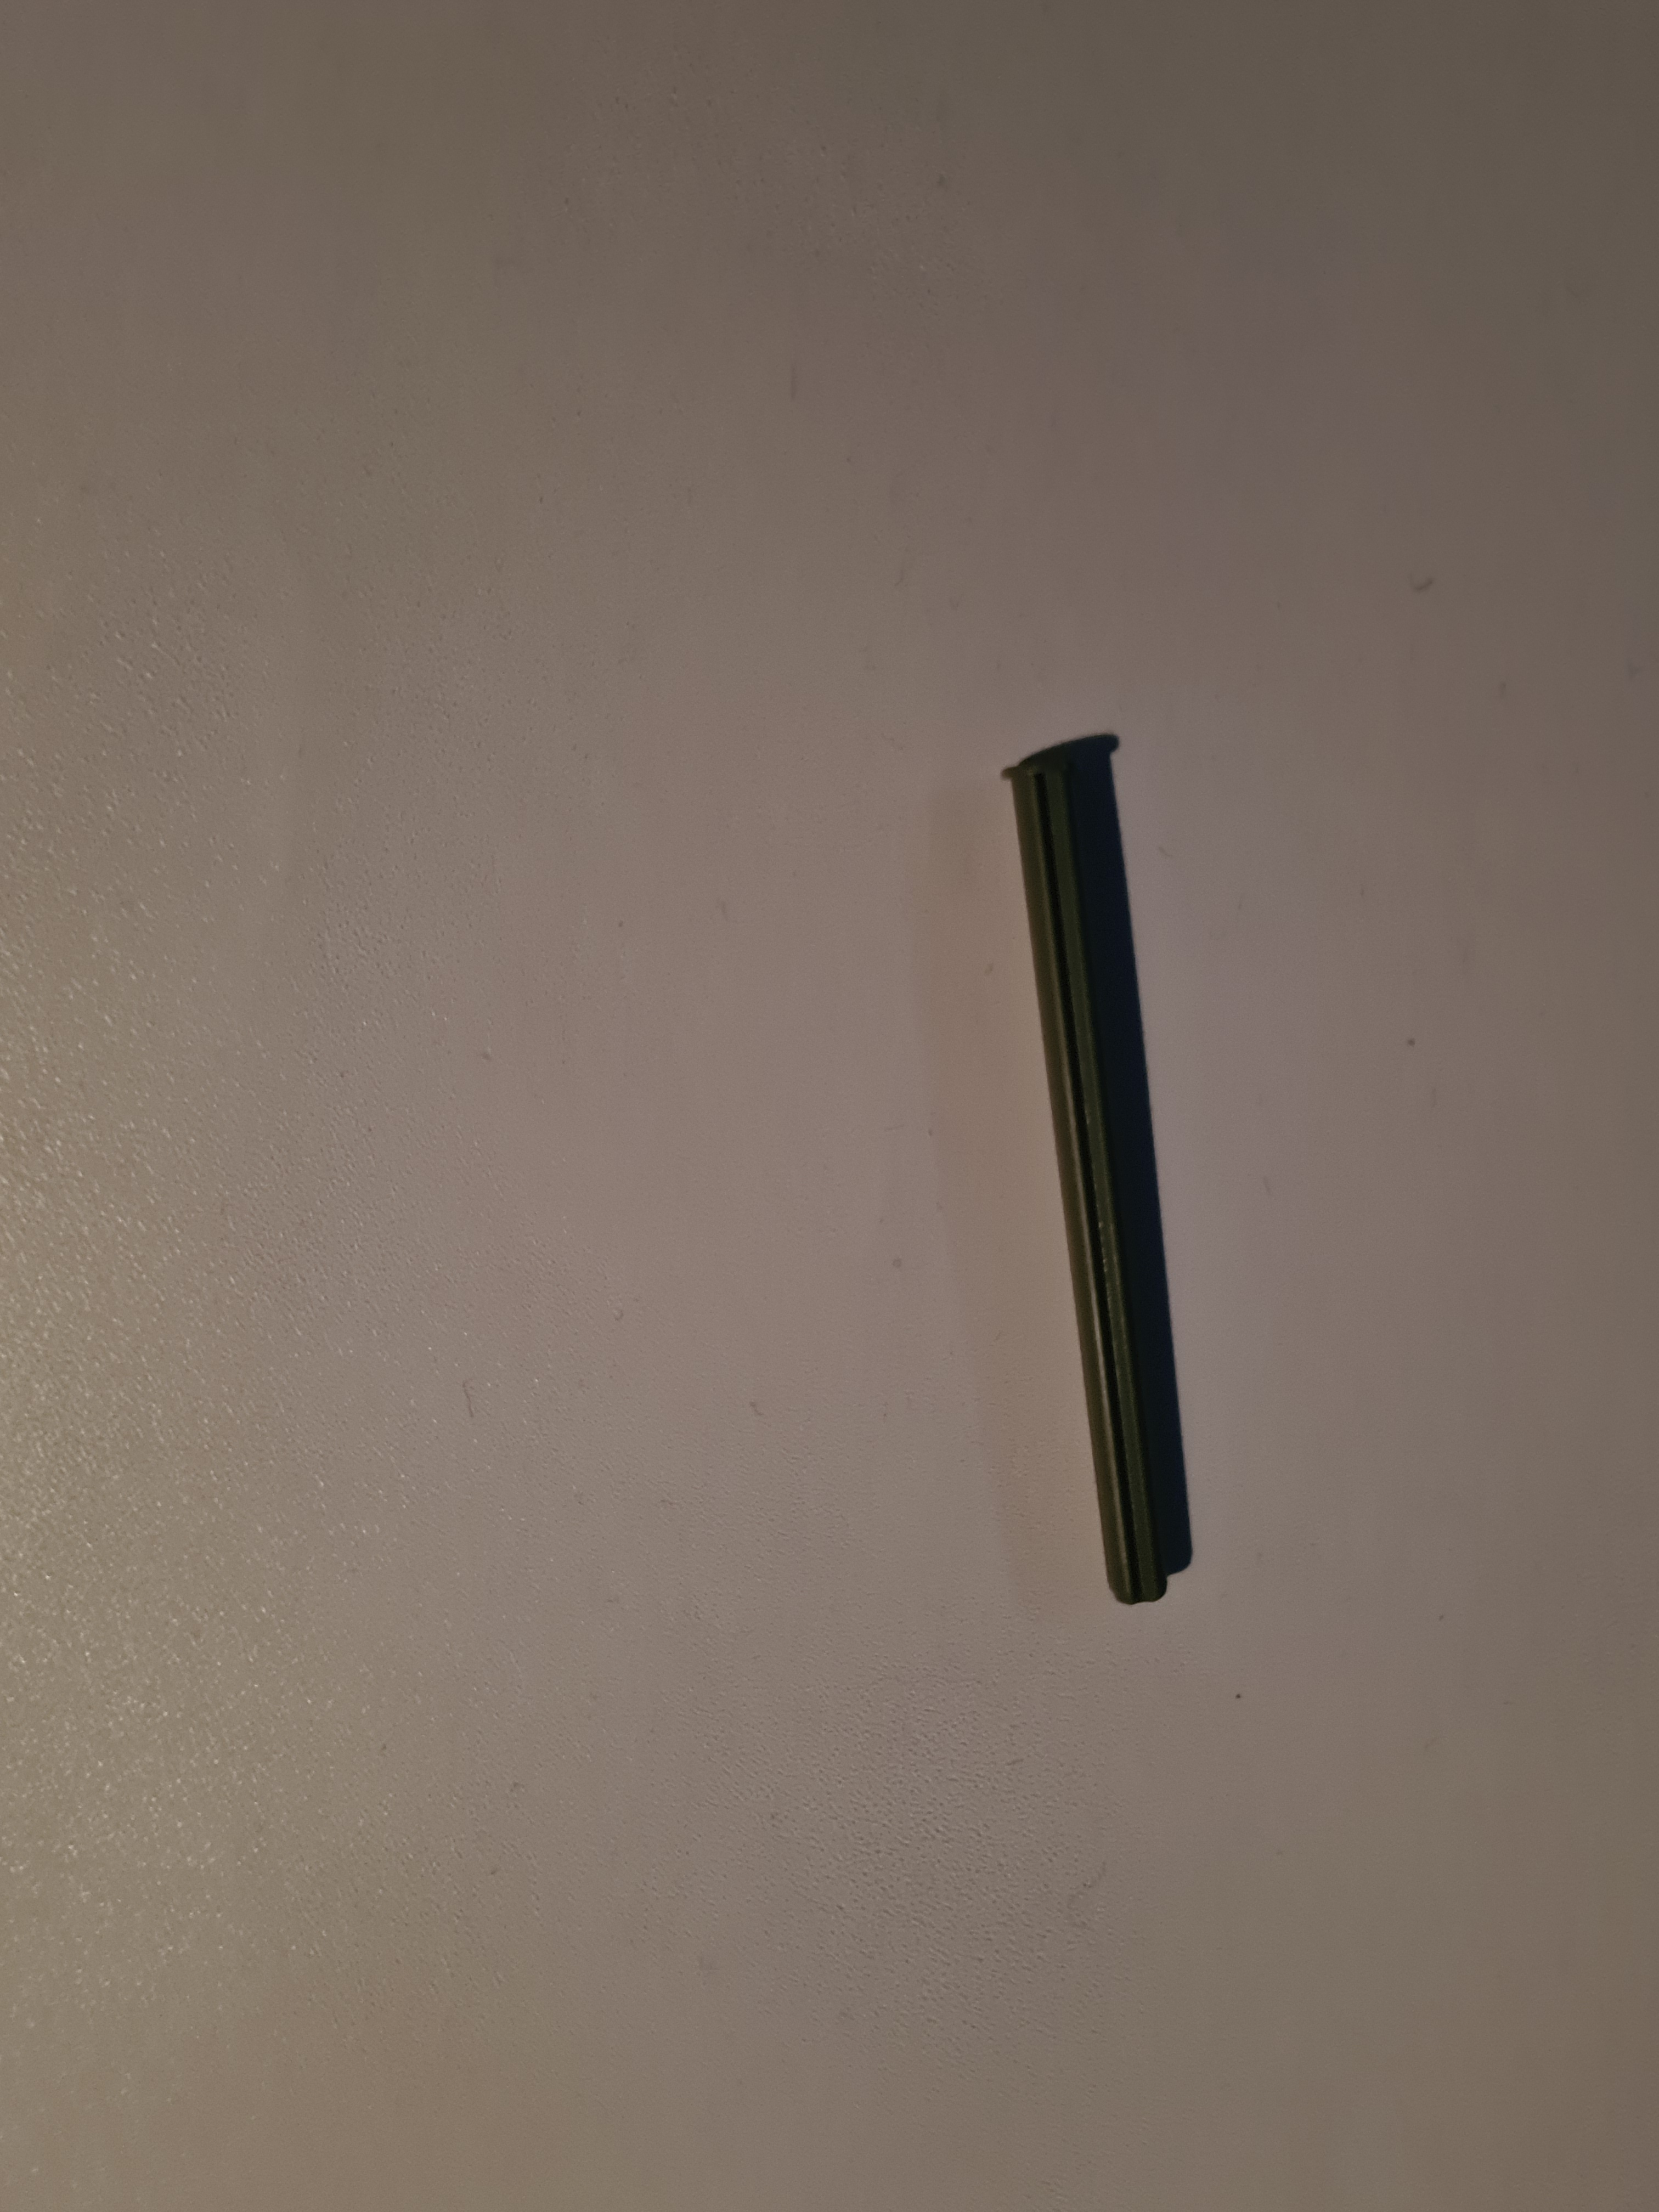Grau_lang: (967, 712, 1246, 1649)
